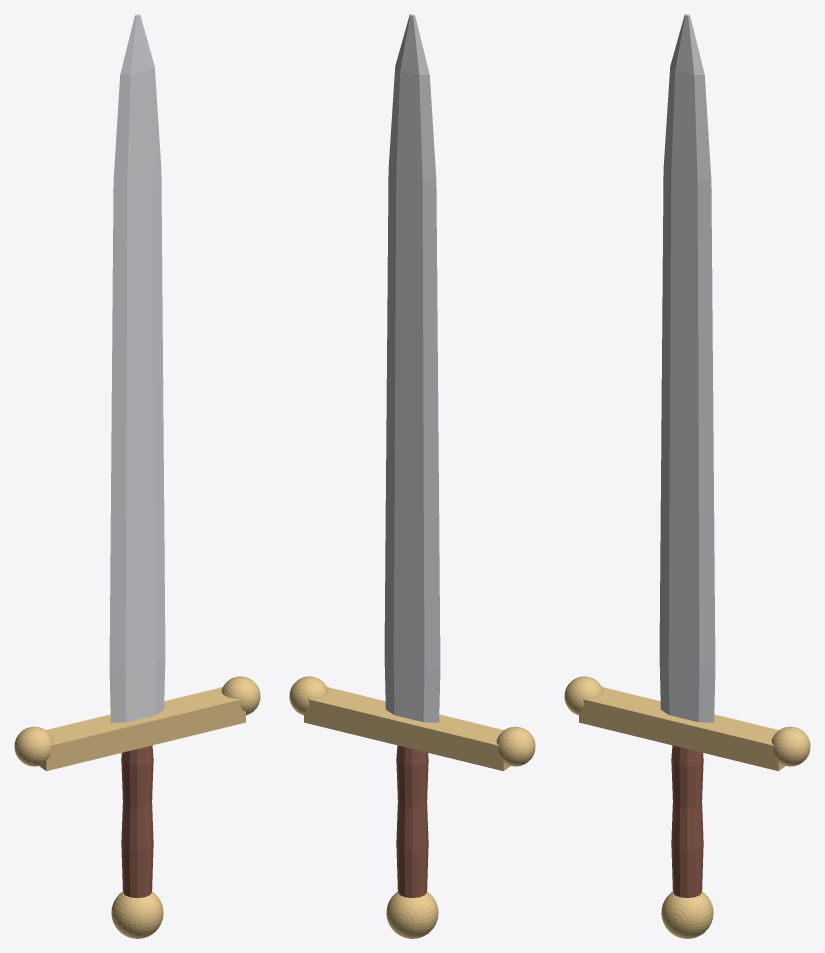
Rendered from sword.glb.
3 views of the same model, side by side, from view 1: azimuth 30°, elevation 25°; view 2: azimuth 150°, elevation 25°; view 3: azimuth 330°, elevation 25° (orthographic).
Parts seen in each view (by area): view 1: blade; view 2: blade; view 3: blade.
Part boxes in pixels (box(x1,y1,x2,y2)): blade: box(14, 14, 260, 938); blade: box(289, 14, 535, 938); blade: box(564, 14, 810, 938).
Bounding box in the file's own units: 0.362 × 1.32 × 0.068.
